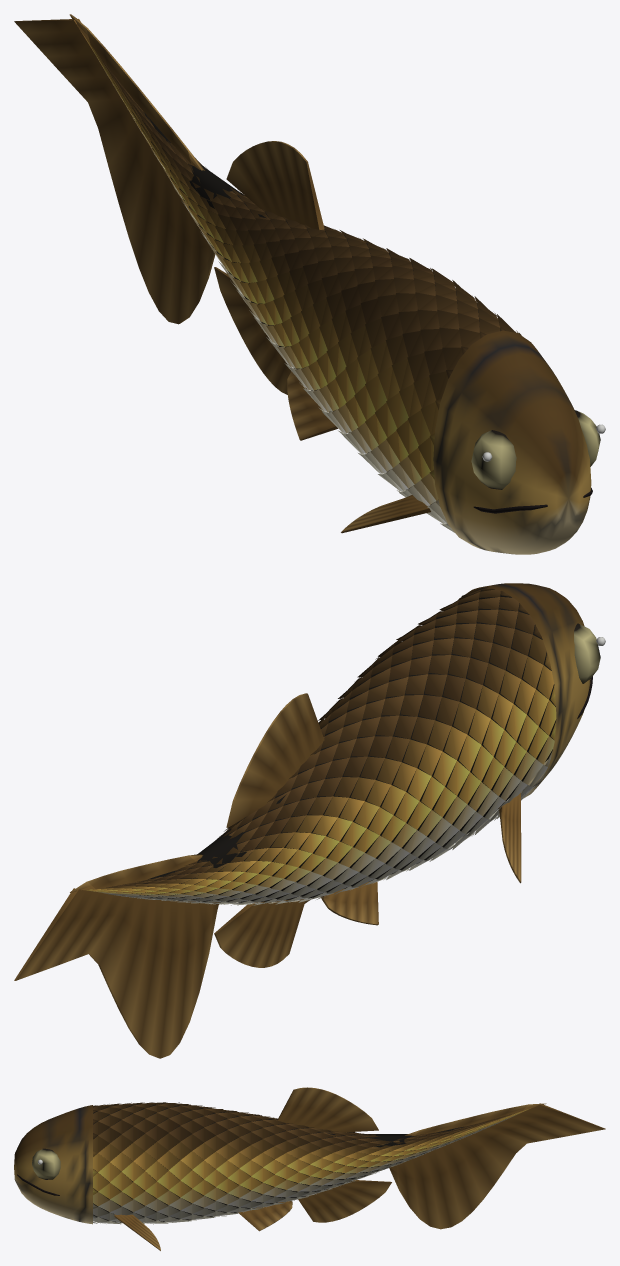
Rendered from Mimipiscis.fbx.
The picture shows the model from 3 angles, top to bottom: view 1: azimuth 30°, elevation 25°; view 2: azimuth 150°, elevation 25°; view 3: azimuth 270°, elevation 25°; orthographic projection. The views are drawn at different scales.
Visible parts, largest first — view 1: Mimipiscis; view 2: Mimipiscis; view 3: Mimipiscis.
Boxes of the visible parts, x1,y1,x2,y2 form: Mimipiscis: [14, 14, 605, 554]; Mimipiscis: [14, 583, 605, 1058]; Mimipiscis: [14, 1087, 605, 1250].
Bounding box in the file's own units: 0.3391 × 0.4745 × 1.8.
